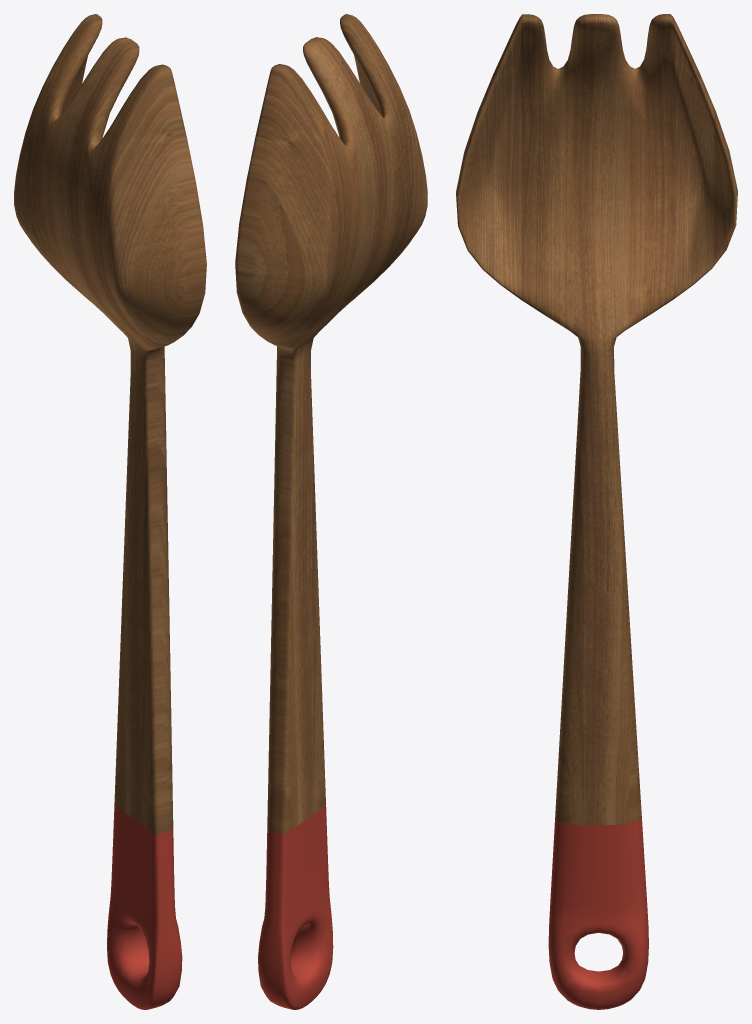
The model's file is kitchen03.gltf.
3 renders of one model, left to right at view 1: azimuth 30°, elevation 25°; view 2: azimuth 150°, elevation 25°; view 3: azimuth 270°, elevation 25°, orthographic.
Parts seen in each view (by area): view 1: 05; view 2: 05; view 3: 05.
Part boxes in pixels (bbox=[...]): 05: bbox=[14, 14, 206, 1009]; 05: bbox=[235, 14, 427, 1009]; 05: bbox=[456, 14, 737, 1009].
Bounding box in the file's own units: 0.036 × 0.3287 × 0.0855.
2 materials, 1 textured.
